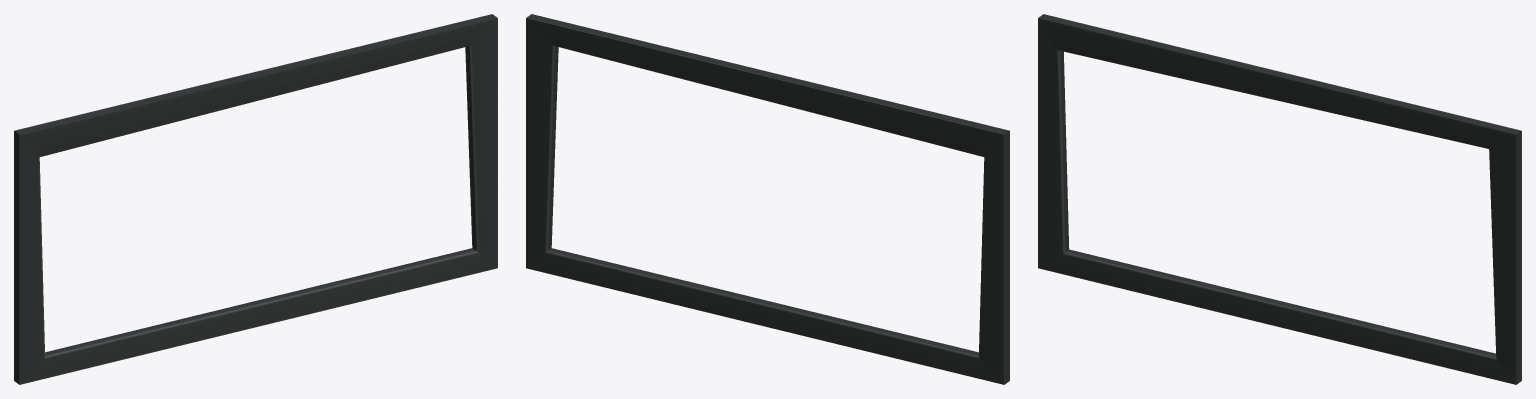
File: PropWindow02TypeI_1.FBX
The picture shows the model from 3 angles, left to right: view 1: azimuth 30°, elevation 25°; view 2: azimuth 150°, elevation 25°; view 3: azimuth 330°, elevation 25°; orthographic projection.
Visible parts, largest first — view 1: PropWindow02TypeI_1; view 2: PropWindow02TypeI_1; view 3: PropWindow02TypeI_1.
Boxes of the visible parts, bbox=[...] form: PropWindow02TypeI_1: bbox=[14, 14, 497, 384]; PropWindow02TypeI_1: bbox=[526, 14, 1009, 384]; PropWindow02TypeI_1: bbox=[1038, 14, 1521, 384].
Size of what is drawn, in the model's own units: 3 by 1.5 by 0.06.
